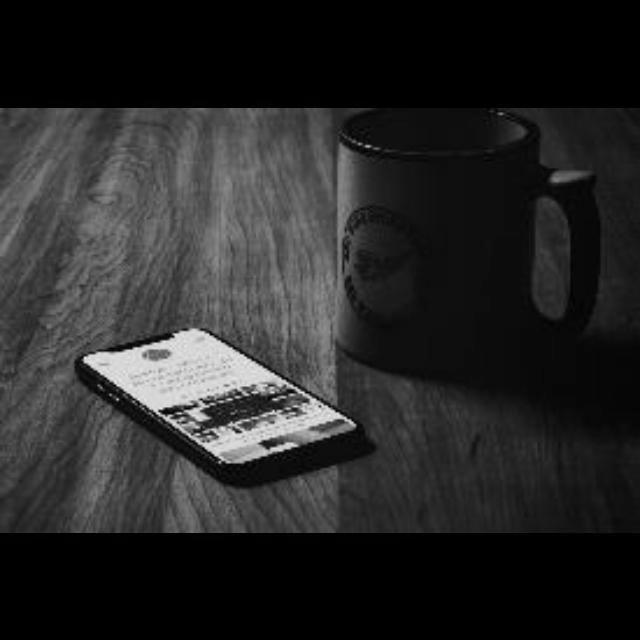fake: (82, 320, 368, 492)
